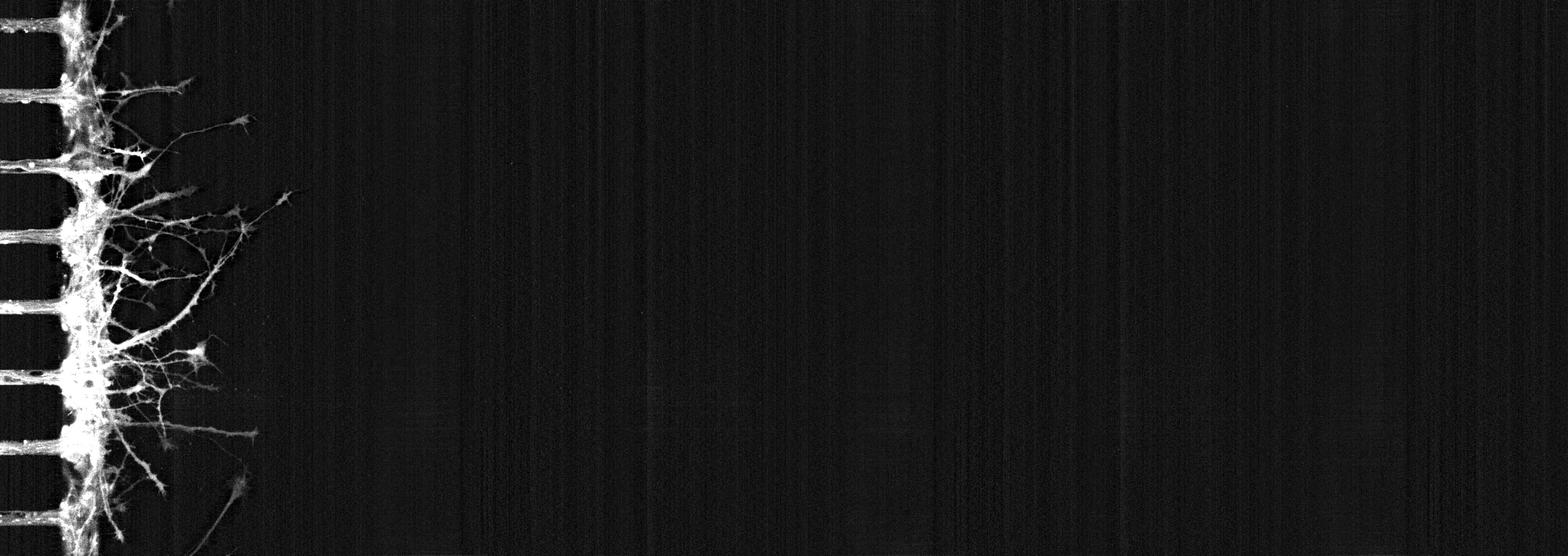tip: (231, 114, 250, 134), (276, 191, 294, 205), (250, 426, 257, 448)
